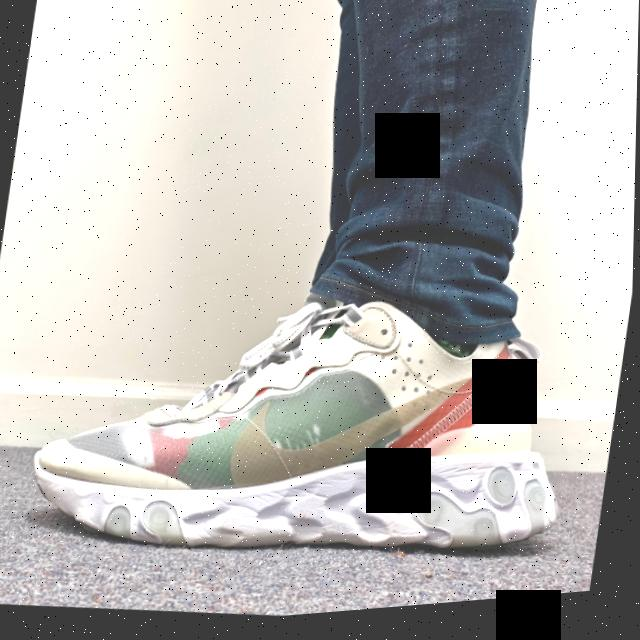shoe: (20, 259, 590, 607)
